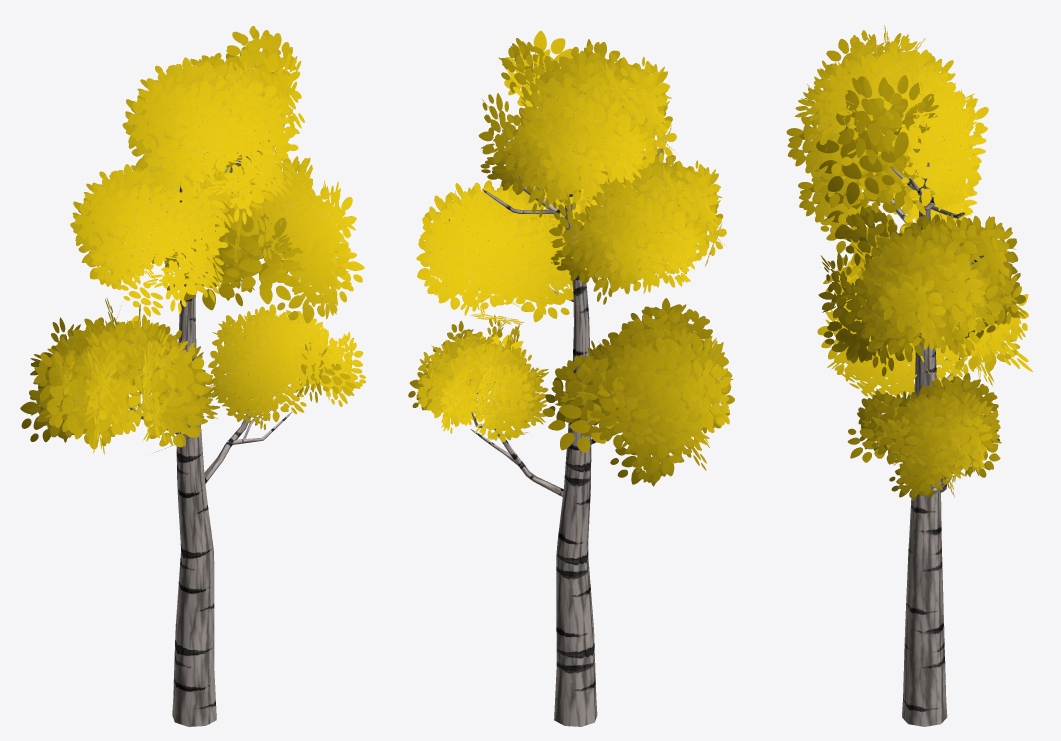
The model's file is R7qMWzb7nk-lod.glb.
The picture shows the model from 3 angles, left to right: view 1: azimuth 30°, elevation 25°; view 2: azimuth 150°, elevation 25°; view 3: azimuth 270°, elevation 25°; orthographic projection. The views are drawn at different scales.
Parts seen in each view (by area): view 1: BirchTree_1; view 2: BirchTree_1; view 3: BirchTree_1.
Part boxes in pixels (x1,y1,x2,y2): BirchTree_1: [20, 26, 365, 726]; BirchTree_1: [408, 31, 734, 726]; BirchTree_1: [786, 25, 1032, 726].
Bounding box in the file's own units: 2.71 × 5.45 × 1.94.
2 materials, 2 textured.
